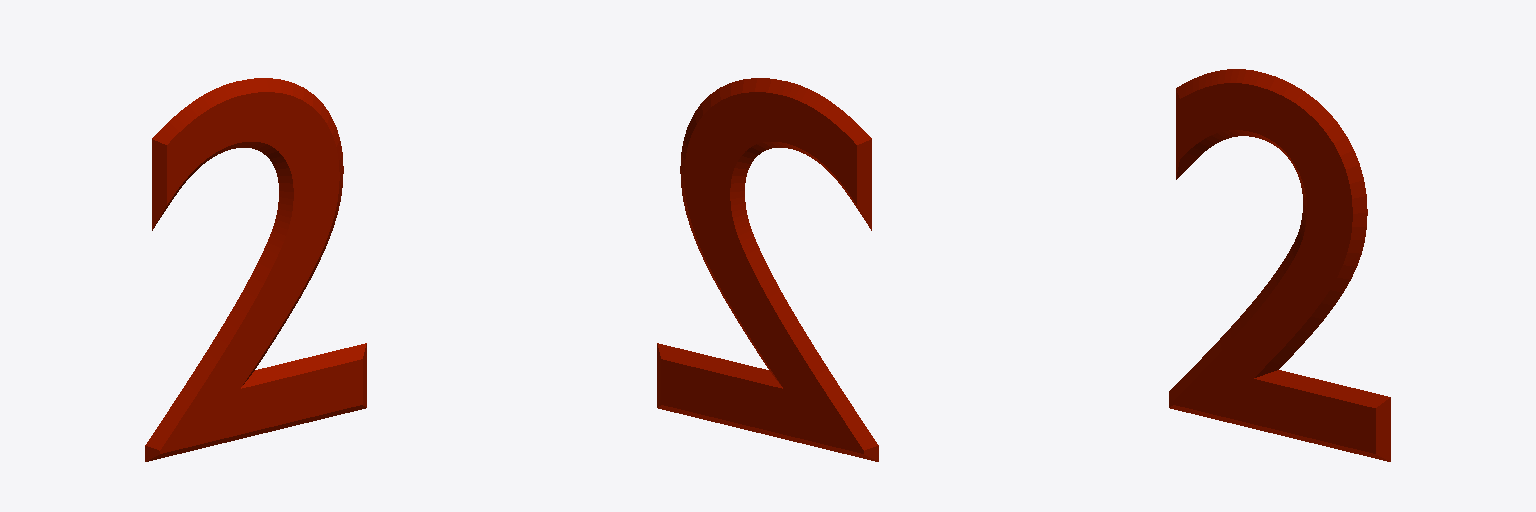
The model's file is two.obj.
3 views of the same model, side by side, from view 1: azimuth 30°, elevation 25°; view 2: azimuth 150°, elevation 25°; view 3: azimuth 330°, elevation 25° (orthographic).
Visible parts, largest first — view 1: Text.002; view 2: Text.002; view 3: Text.002.
Boxes of the visible parts, <box> form: Text.002: <box>145,78,366,461</box>; Text.002: <box>657,78,878,461</box>; Text.002: <box>1169,69,1390,461</box>.
Size of the model in its own units: 0.0472 by 0.0731 by 0.004.